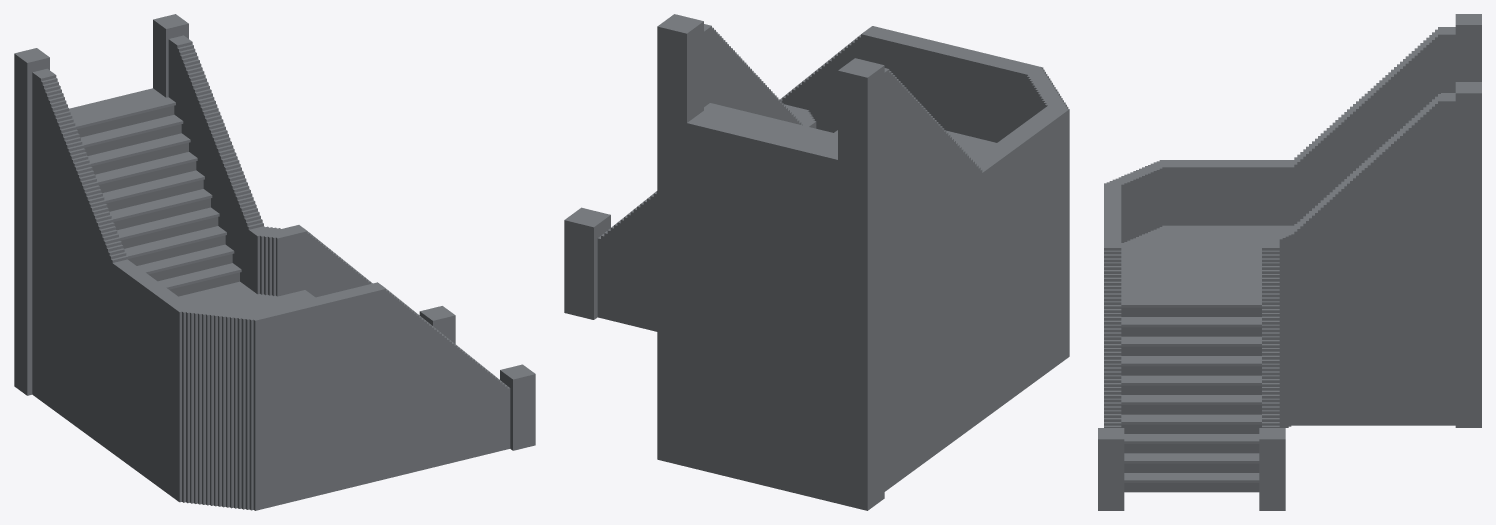
The model's file is stairs0.obj.
3 views of the same model, side by side, from view 1: azimuth 30°, elevation 25°; view 2: azimuth 150°, elevation 25°; view 3: azimuth 270°, elevation 25° (orthographic). The views are drawn at different scales.
Size of the model in its own units: 13.1 by 12.6 by 13.1.
Materials: 1 (1 with a texture image).
